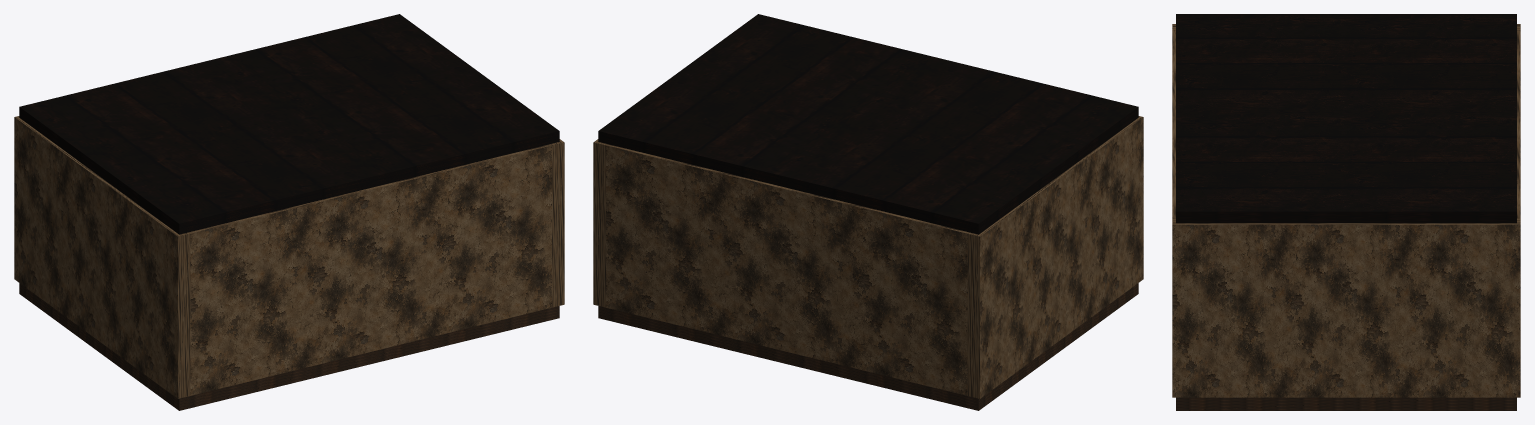
File: enclosed-A-v6.glb
The picture shows the model from 3 angles, left to right: view 1: azimuth 30°, elevation 25°; view 2: azimuth 150°, elevation 25°; view 3: azimuth 270°, elevation 25°; orthographic projection. The views are drawn at different scales.
Parts seen in each view (by area): view 1: 密閉調查區_A; view 2: 密閉調查區_A; view 3: 密閉調查區_A.
Part boxes in pixels (left/top/right/bottom): 密閉調查區_A: left=14, top=14, right=564, bottom=410; 密閉調查區_A: left=593, top=14, right=1143, bottom=410; 密閉調查區_A: left=1172, top=14, right=1520, bottom=410.
Bounding box in the file's own units: 7.48 × 3.46 × 5.48.
Materials: 20 (16 with a texture image).
